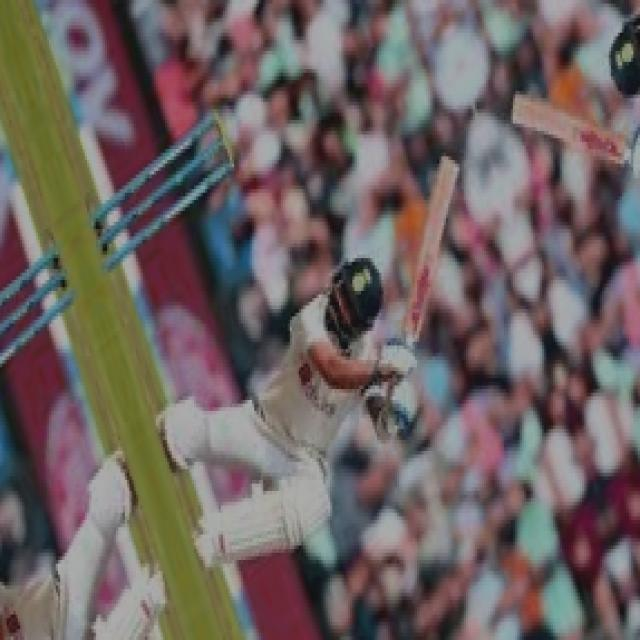bat: (400, 153, 456, 351)
